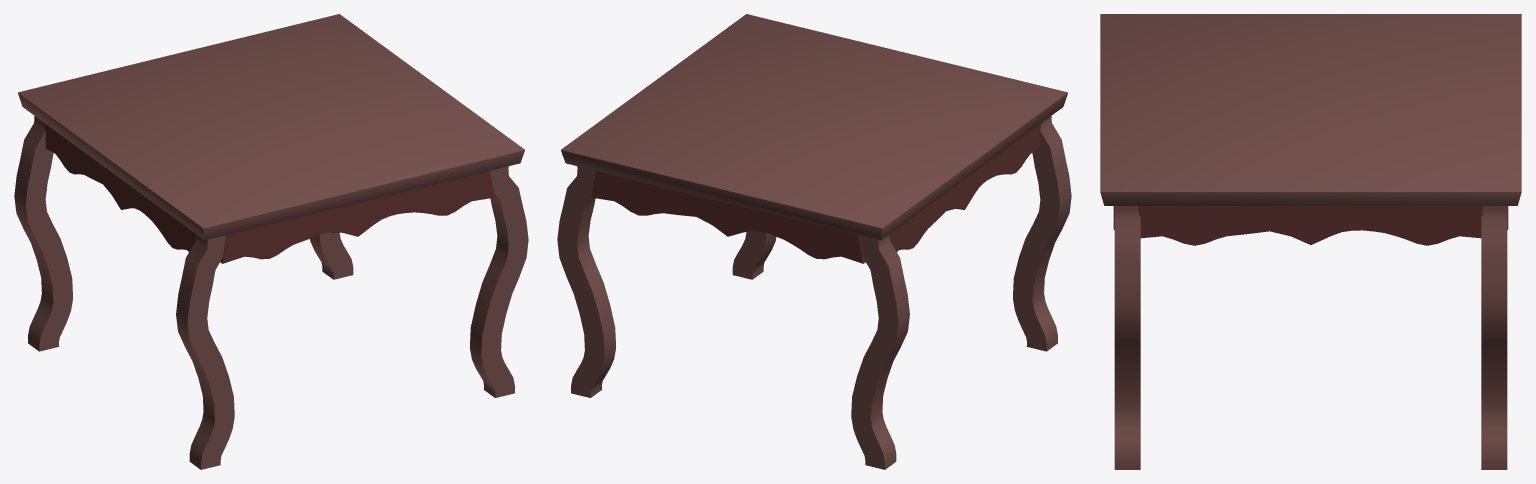
The model's file is Mesinha.fbx.
3 renders of one model, left to right at view 1: azimuth 30°, elevation 25°; view 2: azimuth 150°, elevation 25°; view 3: azimuth 270°, elevation 25°, orthographic. The views are drawn at different scales.
Visible parts, largest first — view 1: Mesa, Mesa.Perna, Mesa.Detalhe; view 2: Mesa, Mesa.Perna, Mesa.Detalhe; view 3: Mesa, Mesa.Perna, Mesa.Detalhe.
Boxes of the visible parts, x1,y1,x2,y2 form: Mesa: [18, 14, 524, 240]; Mesa.Perna: [14, 116, 528, 469]; Mesa.Detalhe: [45, 123, 494, 263]; Mesa: [561, 14, 1067, 240]; Mesa.Perna: [557, 116, 1071, 469]; Mesa.Detalhe: [591, 123, 1040, 263]; Mesa: [1100, 14, 1521, 205]; Mesa.Perna: [1114, 206, 1507, 469]; Mesa.Detalhe: [1113, 206, 1508, 245].
Size of the model in its own units: 116 by 80.17 by 109.
